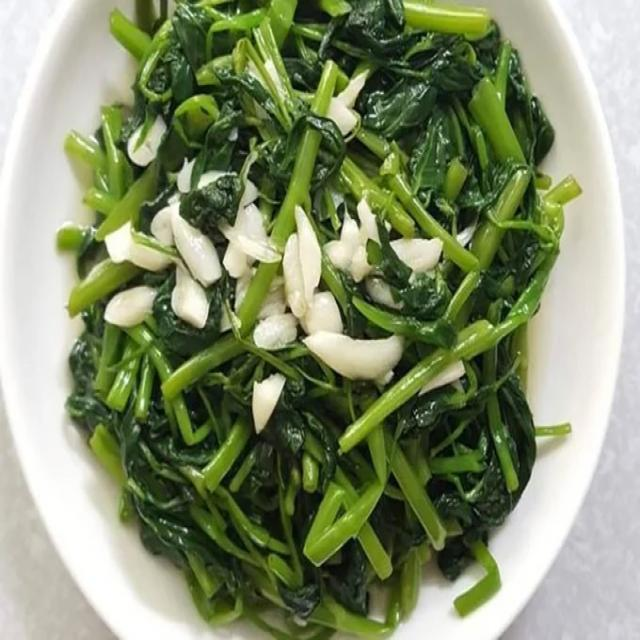rau muong: (56, 0, 581, 633)
